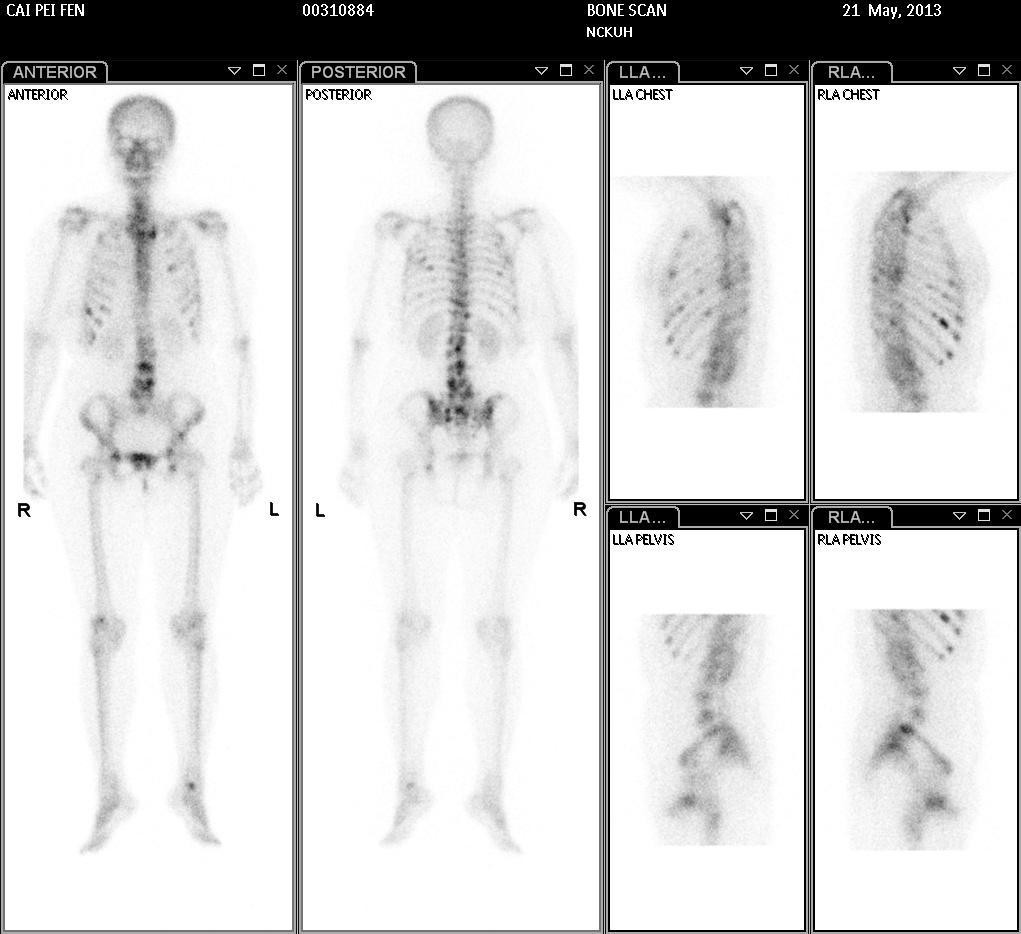person: (4, 85, 602, 931)
